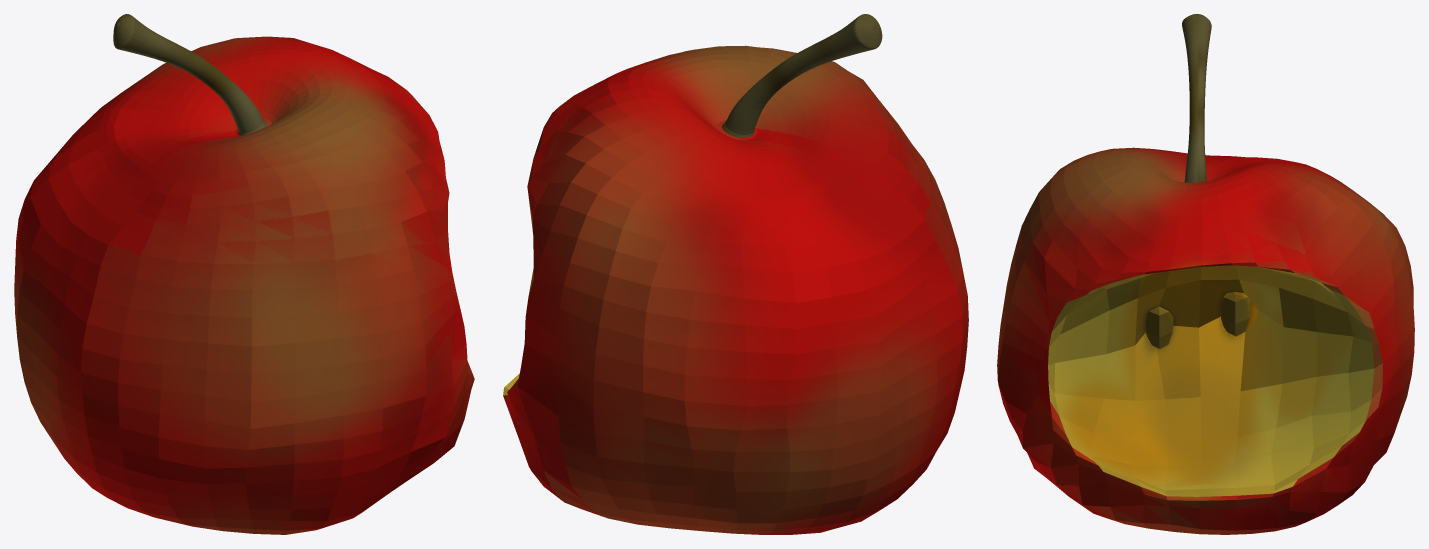
Rendered from Maça.fbx.
The picture shows the model from 3 angles, left to right: view 1: azimuth 30°, elevation 25°; view 2: azimuth 150°, elevation 25°; view 3: azimuth 270°, elevation 25°; orthographic projection. The views are drawn at different scales.
Visible parts, largest first — view 1: Esfera UV.001; view 2: Esfera UV.001; view 3: Esfera UV.001.
Part boxes in pixels (x1,y1,x2,y2): Esfera UV.001: [14, 14, 474, 534]; Esfera UV.001: [503, 14, 968, 534]; Esfera UV.001: [997, 14, 1414, 534].
Size of the model in its own units: 158 by 192 by 171.
1 material, 1 textured.
